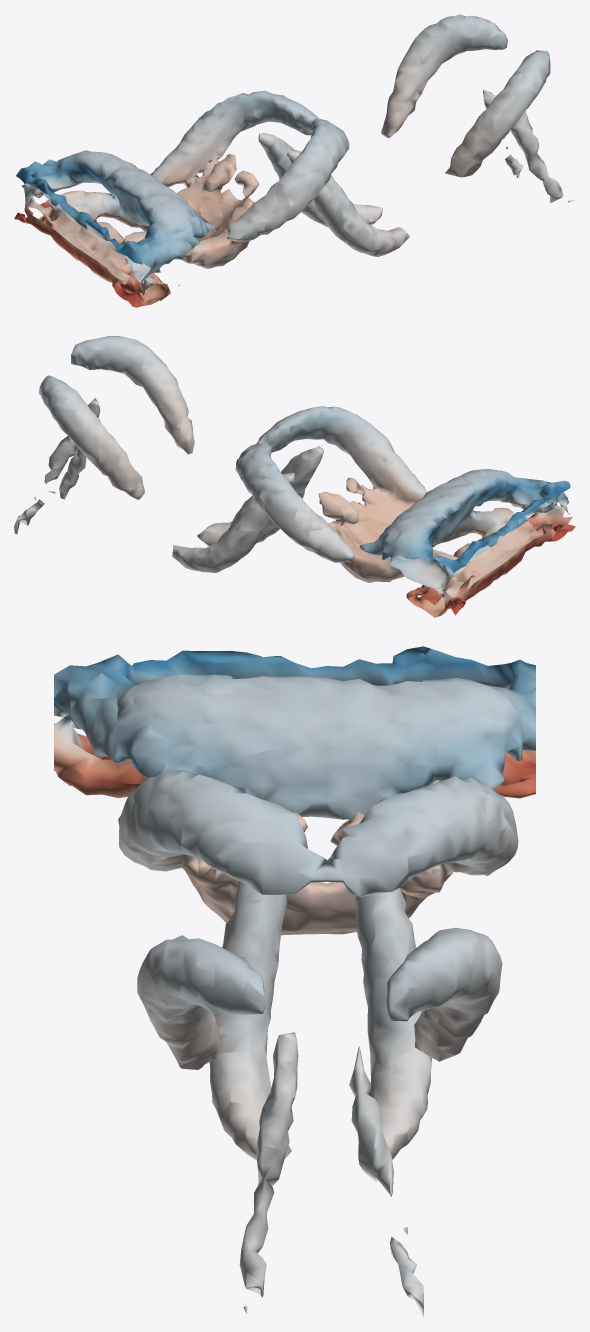
3 views of the same model, one above another, from view 1: azimuth 30°, elevation 25°; view 2: azimuth 150°, elevation 25°; view 3: azimuth 270°, elevation 25° (orthographic). The views are drawn at different scales.
Size of the model in its own units: 5.77 by 1.95 by 2.5.
